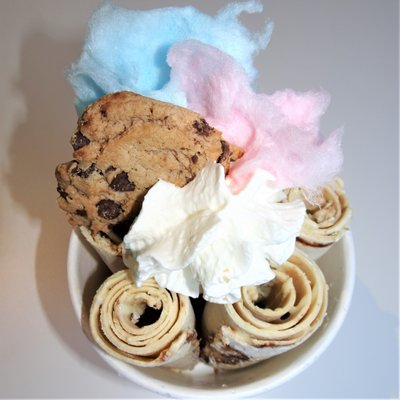salad: (199, 252, 329, 372), (89, 269, 197, 361)
